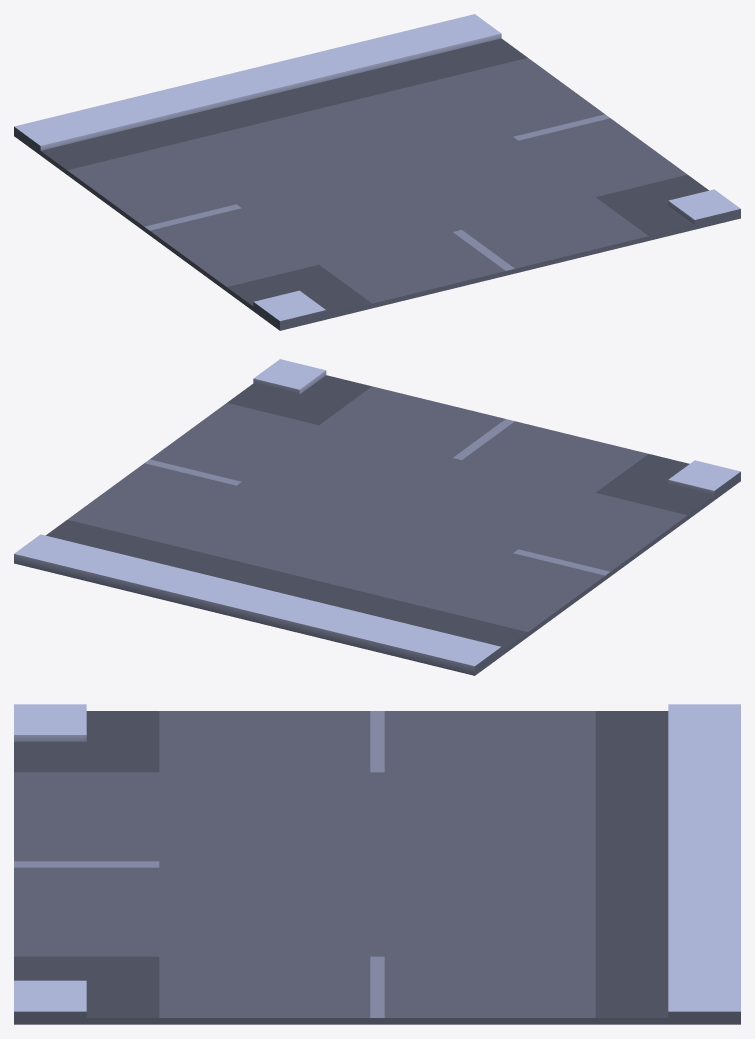
File: road-intersection.glb
3 views of the same model, one above another, from view 1: azimuth 30°, elevation 25°; view 2: azimuth 150°, elevation 25°; view 3: azimuth 270°, elevation 25° (orthographic). The views are drawn at different scales.
Parts seen in each view (by area): view 1: road-intersection; view 2: road-intersection; view 3: road-intersection.
Boxes of the visible parts, x1,y1,x2,y2 form: road-intersection: (14, 14, 740, 330); road-intersection: (14, 359, 740, 675); road-intersection: (14, 704, 740, 1024).
Bounding box in the file's own units: 1 × 0.02 × 1.
1 material, 1 textured.
